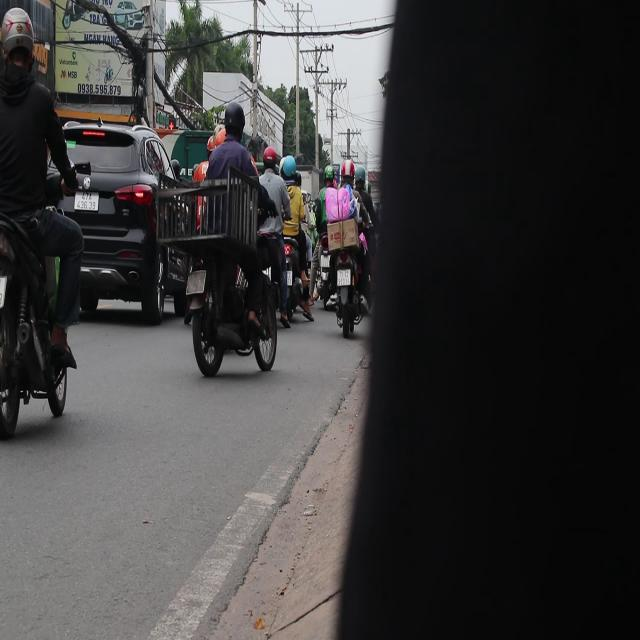car: (61, 121, 187, 328)
motorbike: (170, 165, 280, 382), (1, 188, 82, 443), (318, 187, 373, 339)
